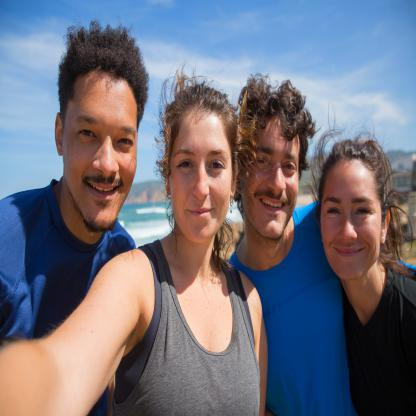Eye: (206, 156, 228, 177), (176, 153, 196, 175), (77, 125, 98, 143), (115, 134, 135, 152), (254, 152, 272, 170), (280, 158, 298, 176), (356, 203, 374, 221), (326, 205, 342, 221)
Mouth: (84, 178, 124, 204), (183, 202, 217, 224), (259, 193, 287, 218), (334, 242, 364, 258)
Nose: (93, 144, 121, 178), (192, 166, 212, 200), (270, 170, 288, 197), (340, 218, 358, 241)
